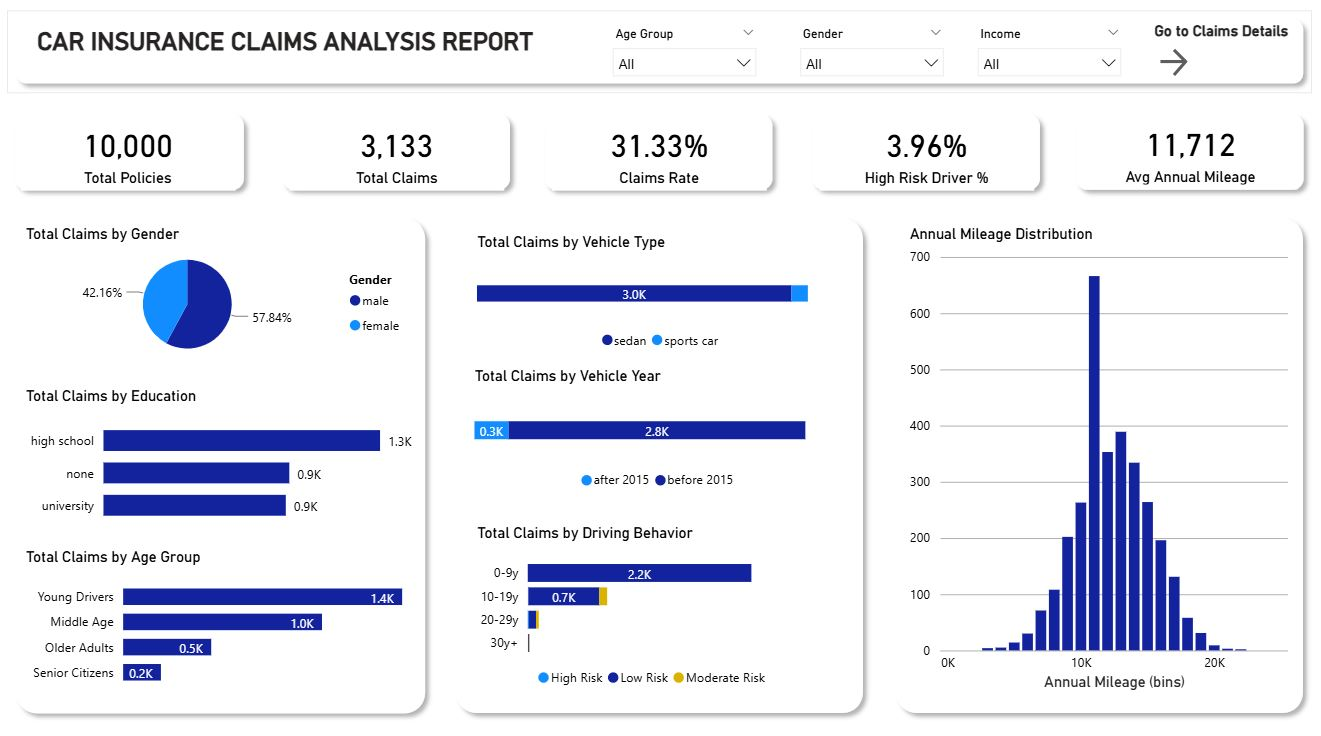

Layout of this report page (visuals, bound fields, positions):
{"tool":"powerbi","page":{"name":"Overview","canvas":[1280,720],"ordinal":0},"visuals":[{"type":"shape","box":[9.6,15.1,1259.7,79.6],"z":0},{"type":"shape","box":[8.2,107,238.8,90.6],"z":1000},{"type":"shape","box":[266.2,107,237.4,90.6],"z":2000},{"type":"shape","box":[520.1,107,237.4,90.6],"z":3000},{"type":"shape","box":[778,107,237.4,90.6],"z":4000},{"type":"shape","box":[1031.9,107,237.4,90.6],"z":5000},{"type":"shape","box":[9.6,207.4,412.5,495.7],"z":6000},{"type":"shape","box":[433.6,207.2,410.3,495.4],"z":7000},{"type":"shape","box":[859,207.2,410.3,495.4],"z":8000},{"type":"card","fields":{"Values":["_Measures.Total Policies"]},"box":[23.3,116.6,207,73],"z":9000},{"type":"card","fields":{"Values":["_Measures.Total Claims"]},"box":[282.7,116.6,207.2,72.7],"z":10000},{"type":"card","fields":{"Values":["_Measures.Claims Rate"]},"box":[535.2,116.6,207.2,72.7],"z":11000},{"type":"card","fields":{"Values":["_Measures.High Risk Driver %"]},"box":[793.1,116.6,207.2,72.7],"z":12000},{"type":"card","fields":{"Values":["_Measures.Avg Annual Mileage"]},"box":[1048.4,115.3,207.2,72.7],"z":13000},{"type":"pieChart","fields":{"Y":["_Measures.Total Claims"],"Category":["Car_Insurance_Claim.Gender"]},"box":[23.3,223.7,382.8,135.8],"z":14000},{"type":"barChart","fields":{"Y":["_Measures.Total Claims"],"Category":["Car_Insurance_Claim.Education"]},"box":[23.3,378.7,382.8,144.1],"z":15000},{"type":"barChart","fields":{"Y":["_Measures.Total Claims"],"Category":["Car_Insurance_Claim.Age Group"]},"box":[23.3,533.8,382.8,144.1],"z":16000},{"type":"barChart","fields":{"Y":["_Measures.Total Claims"],"Series":["Car_Insurance_Claim.Vehicle Type"]},"box":[458.3,230.4,366.6,121.8],"z":17000},{"type":"barChart","fields":{"Y":["_Measures.Total Claims"],"Series":["Car_Insurance_Claim.Vehicle Year"]},"box":[455.9,359.4,366.6,127.8],"z":18000},{"type":"barChart","title":"Total Claims by Driving Behavior","fields":{"Category":["Car_Insurance_Claim.Driving Experience"],"Y":["_Measures.Total Claims"],"Series":["Car_Insurance_Claim.Driving Risk Category"]},"box":[458.3,511.4,351,166.4],"z":19000},{"type":"clusteredColumnChart","title":"Annual Mileage Distribution","fields":{"Category":["Car_Insurance_Claim.Annual Mileage (bins)"],"Y":["_Measures.Total Claims"]},"box":[875.5,223.7,380.1,454.2],"z":20000},{"type":"textbox","box":[33.8,26.5,534.3,56.7],"z":21000},{"type":"slicer","fields":{"Values":["Car_Insurance_Claim.Age Group"]},"box":[583.2,26.1,159.2,57.6],"z":22000},{"type":"slicer","fields":{"Values":["Car_Insurance_Claim.Gender"]},"box":[764.3,26.1,159.2,57.6],"z":23000},{"type":"slicer","fields":{"Values":["Car_Insurance_Claim.Income"]},"box":[935.9,26.1,159.2,57.6],"z":24000},{"type":"actionButton","title":"Go to Claims Details","box":[1117,26.1,138.6,57.6],"z":25000}]}

Visuals, with their boxes in screenshot pixels (x1, y1, x2, y2), scaled from the page's 1280x720 canvas onto the 1321x736 screenshot:
shape: bbox(10, 15, 1310, 97)
shape: bbox(8, 109, 255, 202)
shape: bbox(275, 109, 520, 202)
shape: bbox(537, 109, 782, 202)
shape: bbox(803, 109, 1048, 202)
shape: bbox(1065, 109, 1310, 202)
shape: bbox(10, 212, 436, 719)
shape: bbox(447, 212, 871, 718)
shape: bbox(887, 212, 1310, 718)
card - _Measures.Total Policies: bbox(24, 119, 238, 194)
card - _Measures.Total Claims: bbox(292, 119, 506, 194)
card - _Measures.Claims Rate: bbox(552, 119, 766, 194)
card - _Measures.High Risk Driver %: bbox(819, 119, 1032, 194)
card - _Measures.Avg Annual Mileage: bbox(1082, 118, 1296, 192)
pieChart - _Measures.Total Claims x Car_Insurance_Claim.Gender: bbox(24, 229, 419, 367)
barChart - _Measures.Total Claims x Car_Insurance_Claim.Education: bbox(24, 387, 419, 534)
barChart - _Measures.Total Claims x Car_Insurance_Claim.Age Group: bbox(24, 546, 419, 693)
barChart - _Measures.Total Claims x Car_Insurance_Claim.Vehicle Type: bbox(473, 236, 851, 360)
barChart - _Measures.Total Claims x Car_Insurance_Claim.Vehicle Year: bbox(471, 367, 849, 498)
"Total Claims by Driving Behavior" barChart: bbox(473, 523, 835, 693)
"Annual Mileage Distribution" clusteredColumnChart: bbox(904, 229, 1296, 693)
textbox: bbox(35, 27, 586, 85)
slicer - Car_Insurance_Claim.Age Group: bbox(602, 27, 766, 86)
slicer - Car_Insurance_Claim.Gender: bbox(789, 27, 953, 86)
slicer - Car_Insurance_Claim.Income: bbox(966, 27, 1130, 86)
"Go to Claims Details" actionButton: bbox(1153, 27, 1296, 86)
